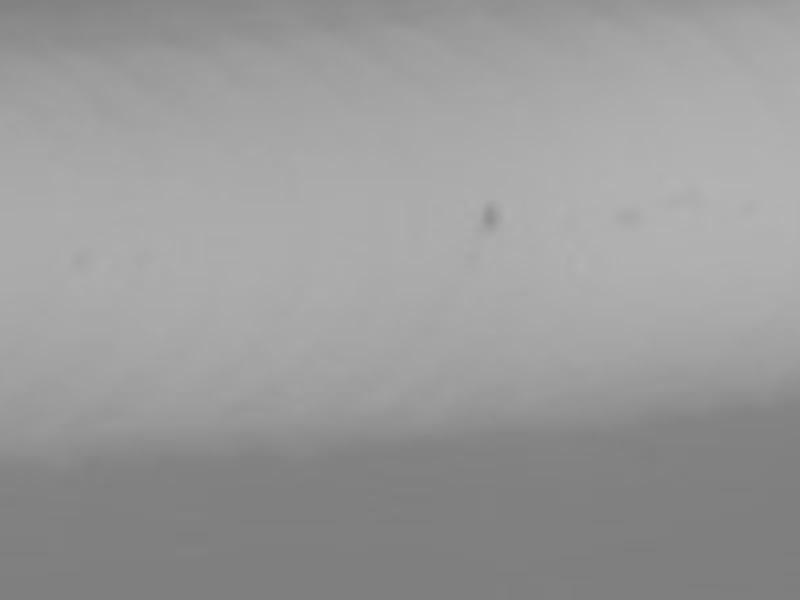defect: (480, 197, 502, 239), (614, 197, 646, 224), (746, 196, 765, 220)
